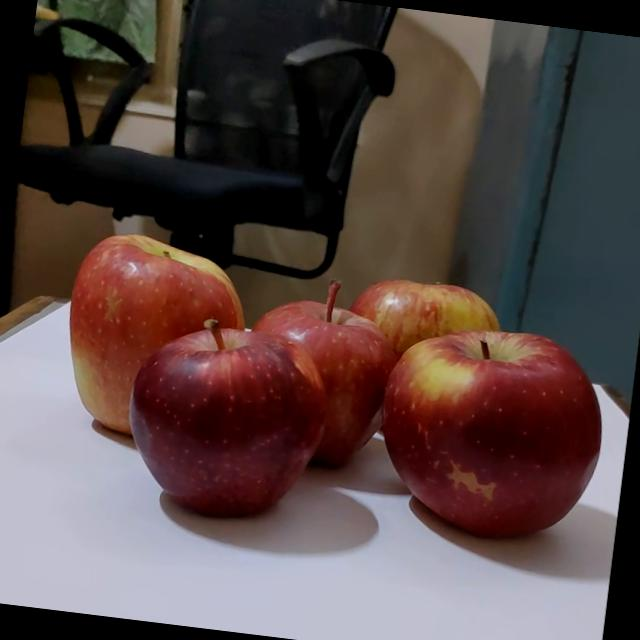apple: (347, 314, 600, 552), (106, 320, 320, 526), (49, 230, 241, 448), (224, 275, 397, 479), (316, 262, 501, 407)
